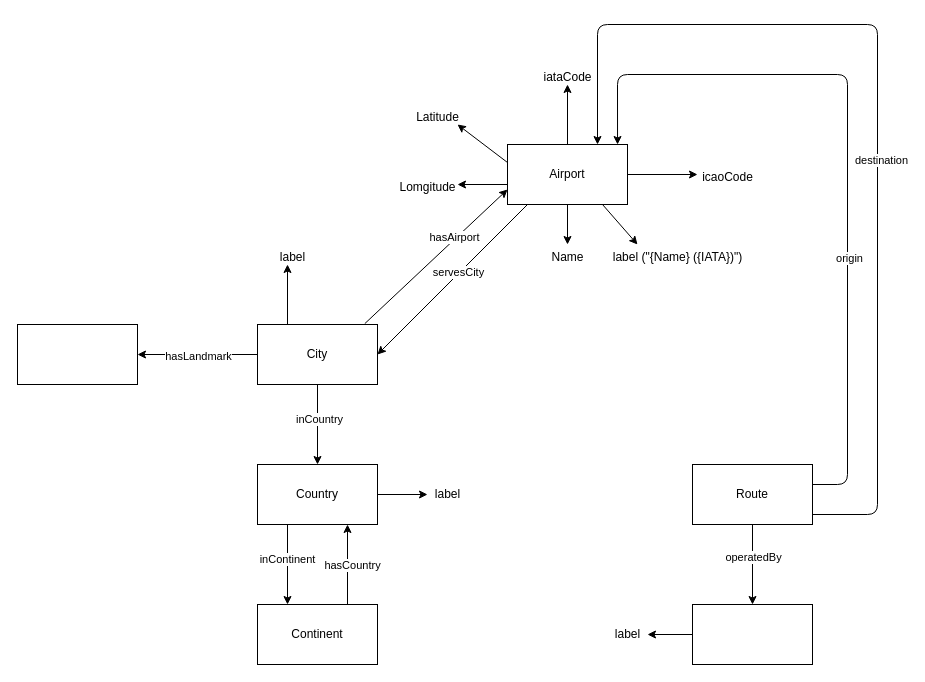
Image size: 925x682. Some labels were removed from this diagram. Here are the shapes that lost their labels. From the top down, the centre of each, then its label:
point (77, 354): Landmark
point (752, 634): Airline
